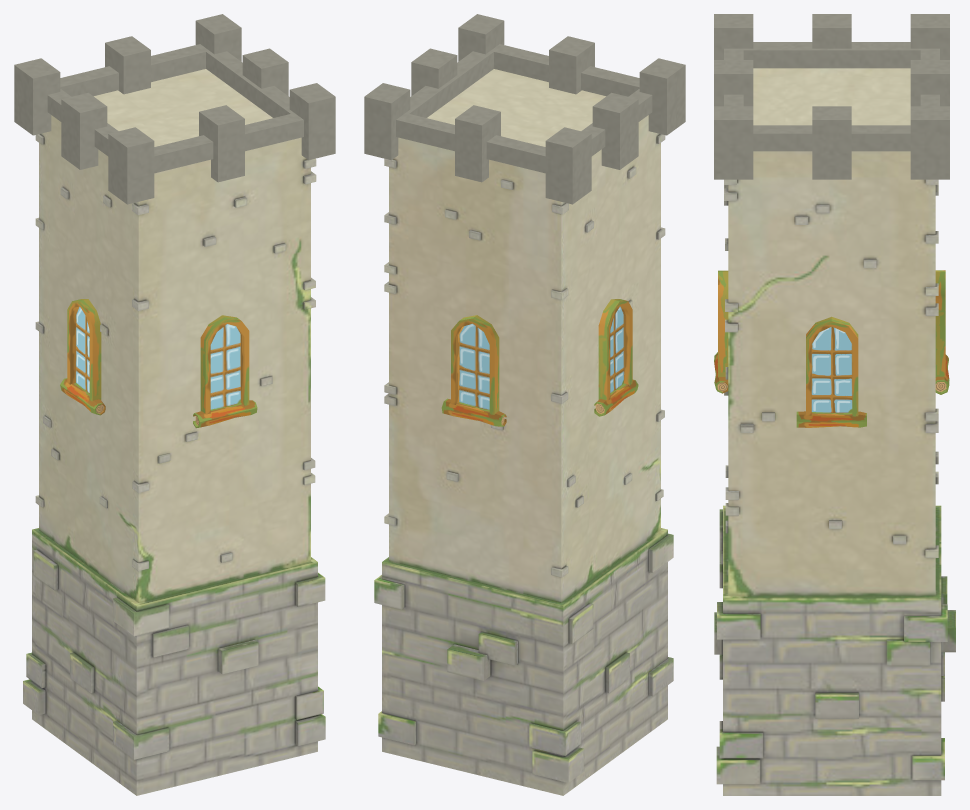
File: tower.glb
3 renders of one model, left to right at view 1: azimuth 30°, elevation 25°; view 2: azimuth 150°, elevation 25°; view 3: azimuth 270°, elevation 25°, orthographic. The views are drawn at different scales.
Size of the model in its own units: 230 by 690 by 222.
3 materials, 3 textured.
